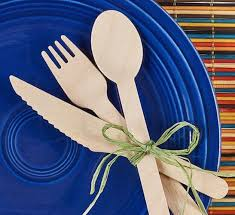Wooden Utensils: (15, 15, 201, 201)
